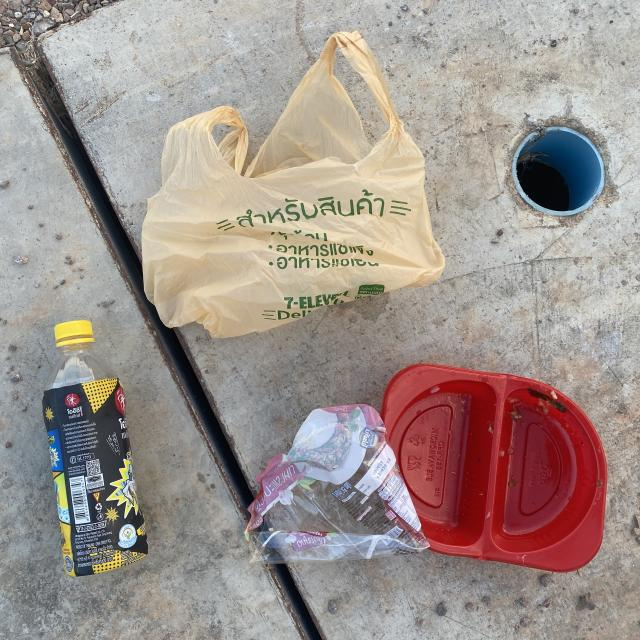Single-layer Plastic: (141, 31, 445, 338)
